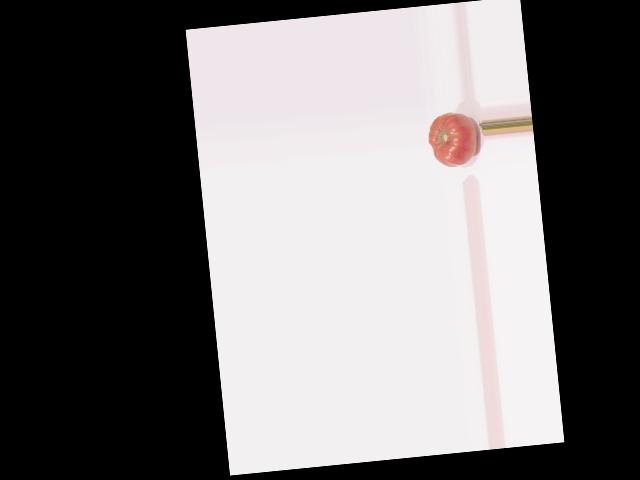tomato: (426, 110, 479, 168)
